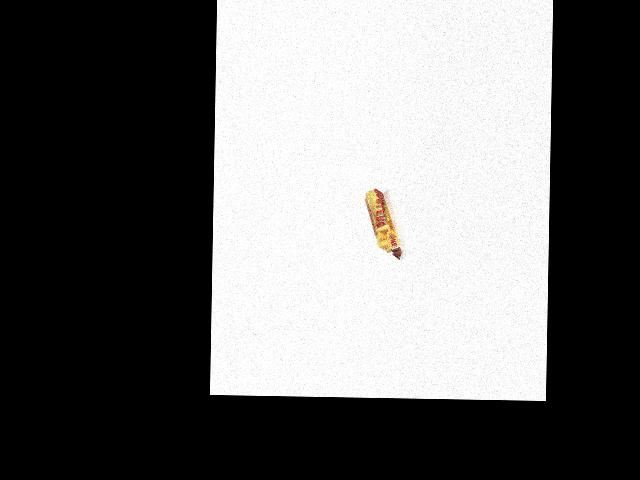chocolate: (362, 189, 406, 260)
